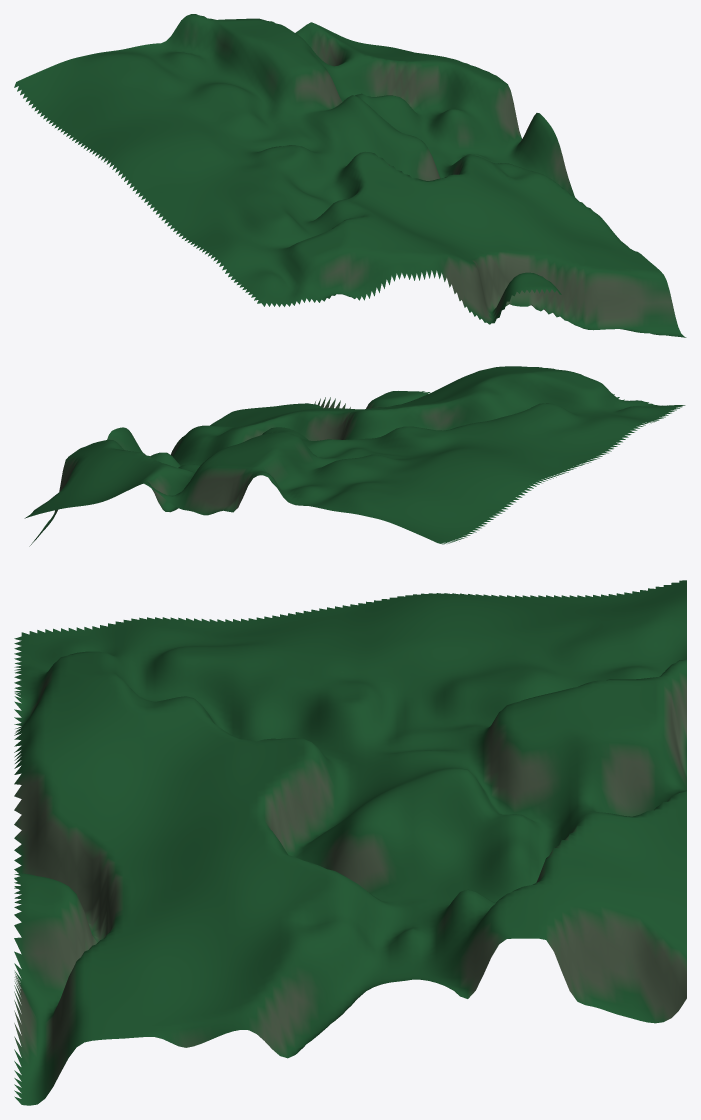
Rendered from payo_land_x1_y1.glb.
3 views of the same model, one above another, from view 1: azimuth 30°, elevation 25°; view 2: azimuth 150°, elevation 25°; view 3: azimuth 270°, elevation 25° (orthographic). The views are drawn at different scales.
Parts seen in each view (by area): view 1: payo_land_x1_y1; view 2: payo_land_x1_y1; view 3: payo_land_x1_y1.
Part boxes in pixels (x1,y1,x2,y2): payo_land_x1_y1: (14, 14, 686, 337); payo_land_x1_y1: (24, 366, 685, 546); payo_land_x1_y1: (14, 580, 686, 1105).
Bounding box in the file's own units: 258 × 118 × 258.
